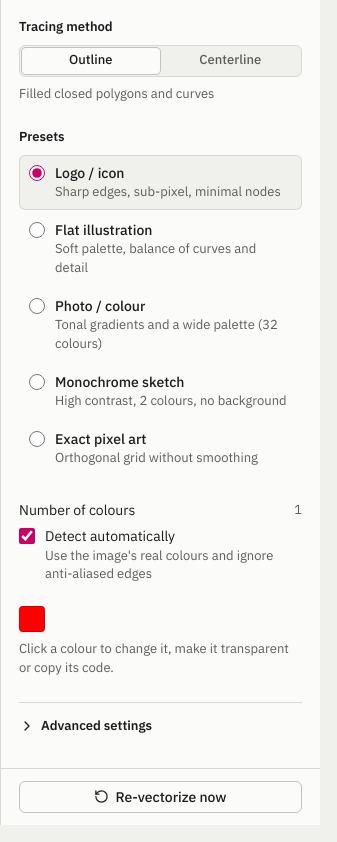
Test: Sidebar › switches to centerline tracing with its own presets
The width and height of the screenshot is (337, 842).
Click the button "Centerline": (230, 61) [162,48,299,74]
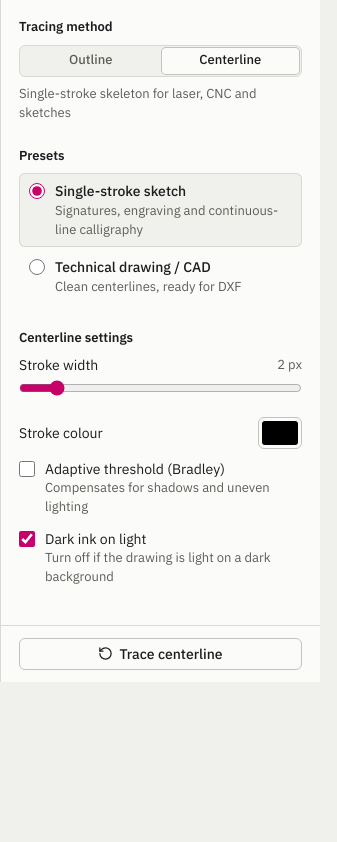
Check: the text "Stroke width" is shown, box [19,355,98,376]
